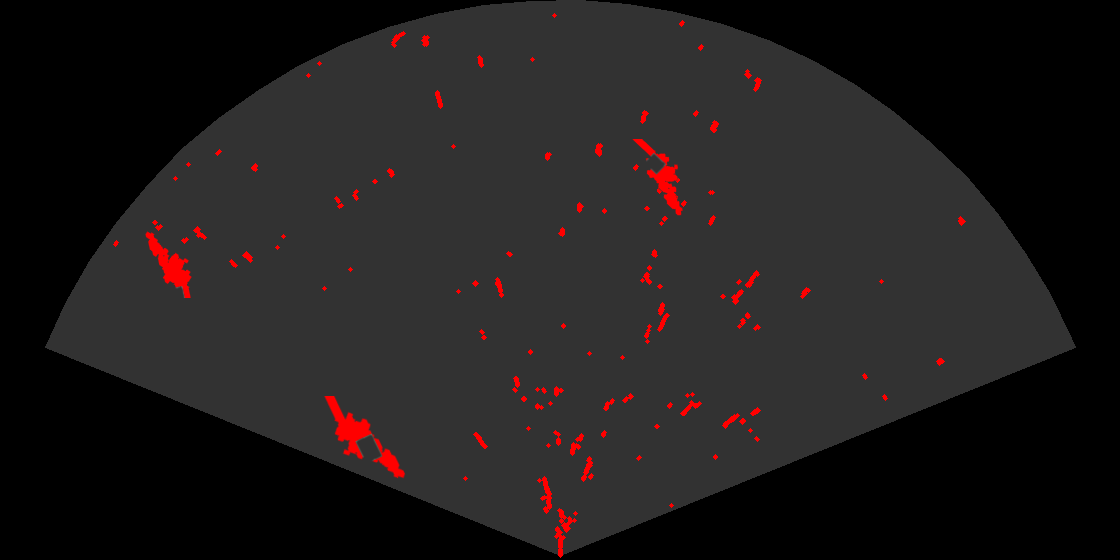frogman: (323, 396, 407, 480), (631, 139, 684, 217), (144, 230, 193, 298)
